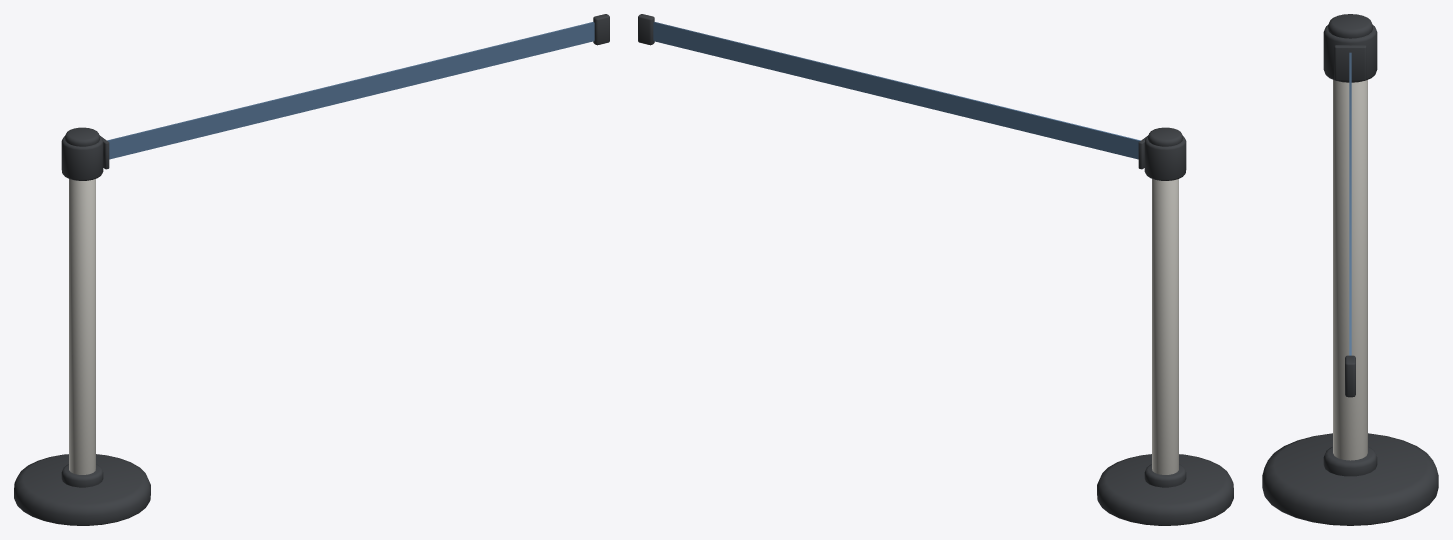
The model's file is barriere_segment.glb.
3 renders of one model, left to right at view 1: azimuth 30°, elevation 25°; view 2: azimuth 150°, elevation 25°; view 3: azimuth 270°, elevation 25°, orthographic. The views are drawn at different scales.
Parts seen in each view (by area): view 1: SEG_Anthracite, SEG_Sangle, SEG_Gris_Clair_Metal; view 2: SEG_Anthracite, SEG_Sangle, SEG_Gris_Clair_Metal; view 3: SEG_Anthracite, SEG_Gris_Clair_Metal, SEG_Sangle, SEG_Embout.
Boxes of the visible parts, left/top/right/bottom form: SEG_Anthracite: left=14, top=127, right=150, bottom=525; SEG_Sangle: left=107, top=22, right=594, bottom=159; SEG_Gris_Clair_Metal: left=69, top=179, right=95, bottom=474; SEG_Anthracite: left=1097, top=127, right=1233, bottom=525; SEG_Sangle: left=653, top=22, right=1140, bottom=159; SEG_Gris_Clair_Metal: left=1152, top=179, right=1178, bottom=474; SEG_Anthracite: left=1262, top=14, right=1438, bottom=525; SEG_Gris_Clair_Metal: left=1333, top=80, right=1367, bottom=460; SEG_Sangle: left=1349, top=52, right=1351, bottom=355; SEG_Embout: left=1345, top=355, right=1355, bottom=397.
Bounding box in the file's own units: 1.62 × 0.965 × 0.33.
